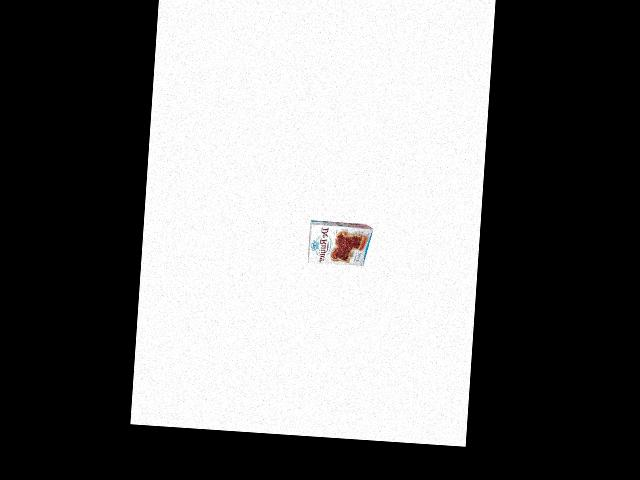chocolate: (303, 214, 372, 272)
